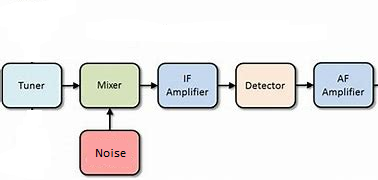arrow: (105, 107, 115, 131), (215, 81, 236, 90), (62, 80, 80, 90), (294, 81, 314, 89), (139, 82, 158, 89)
process: (311, 61, 376, 110), (156, 61, 220, 110), (77, 129, 141, 177), (78, 61, 142, 109), (1, 62, 64, 110), (234, 62, 297, 109)
text: (163, 74, 210, 98), (320, 74, 364, 98), (243, 80, 286, 90), (94, 148, 127, 158), (17, 80, 46, 90), (96, 80, 123, 90)
